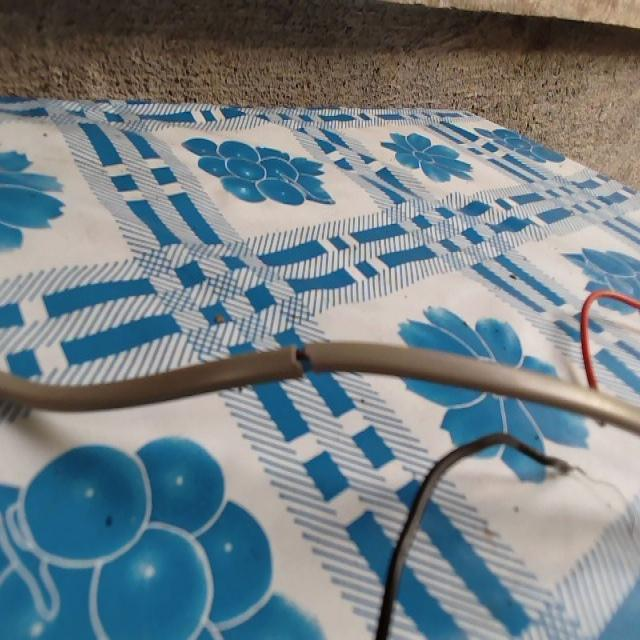-: (289, 336, 320, 377)
